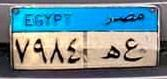4: (66, 37, 81, 66)
7: (12, 35, 30, 64)
8: (50, 39, 65, 65)
9: (32, 36, 48, 66)
ain: (123, 37, 143, 65)
haa: (99, 44, 121, 63)
